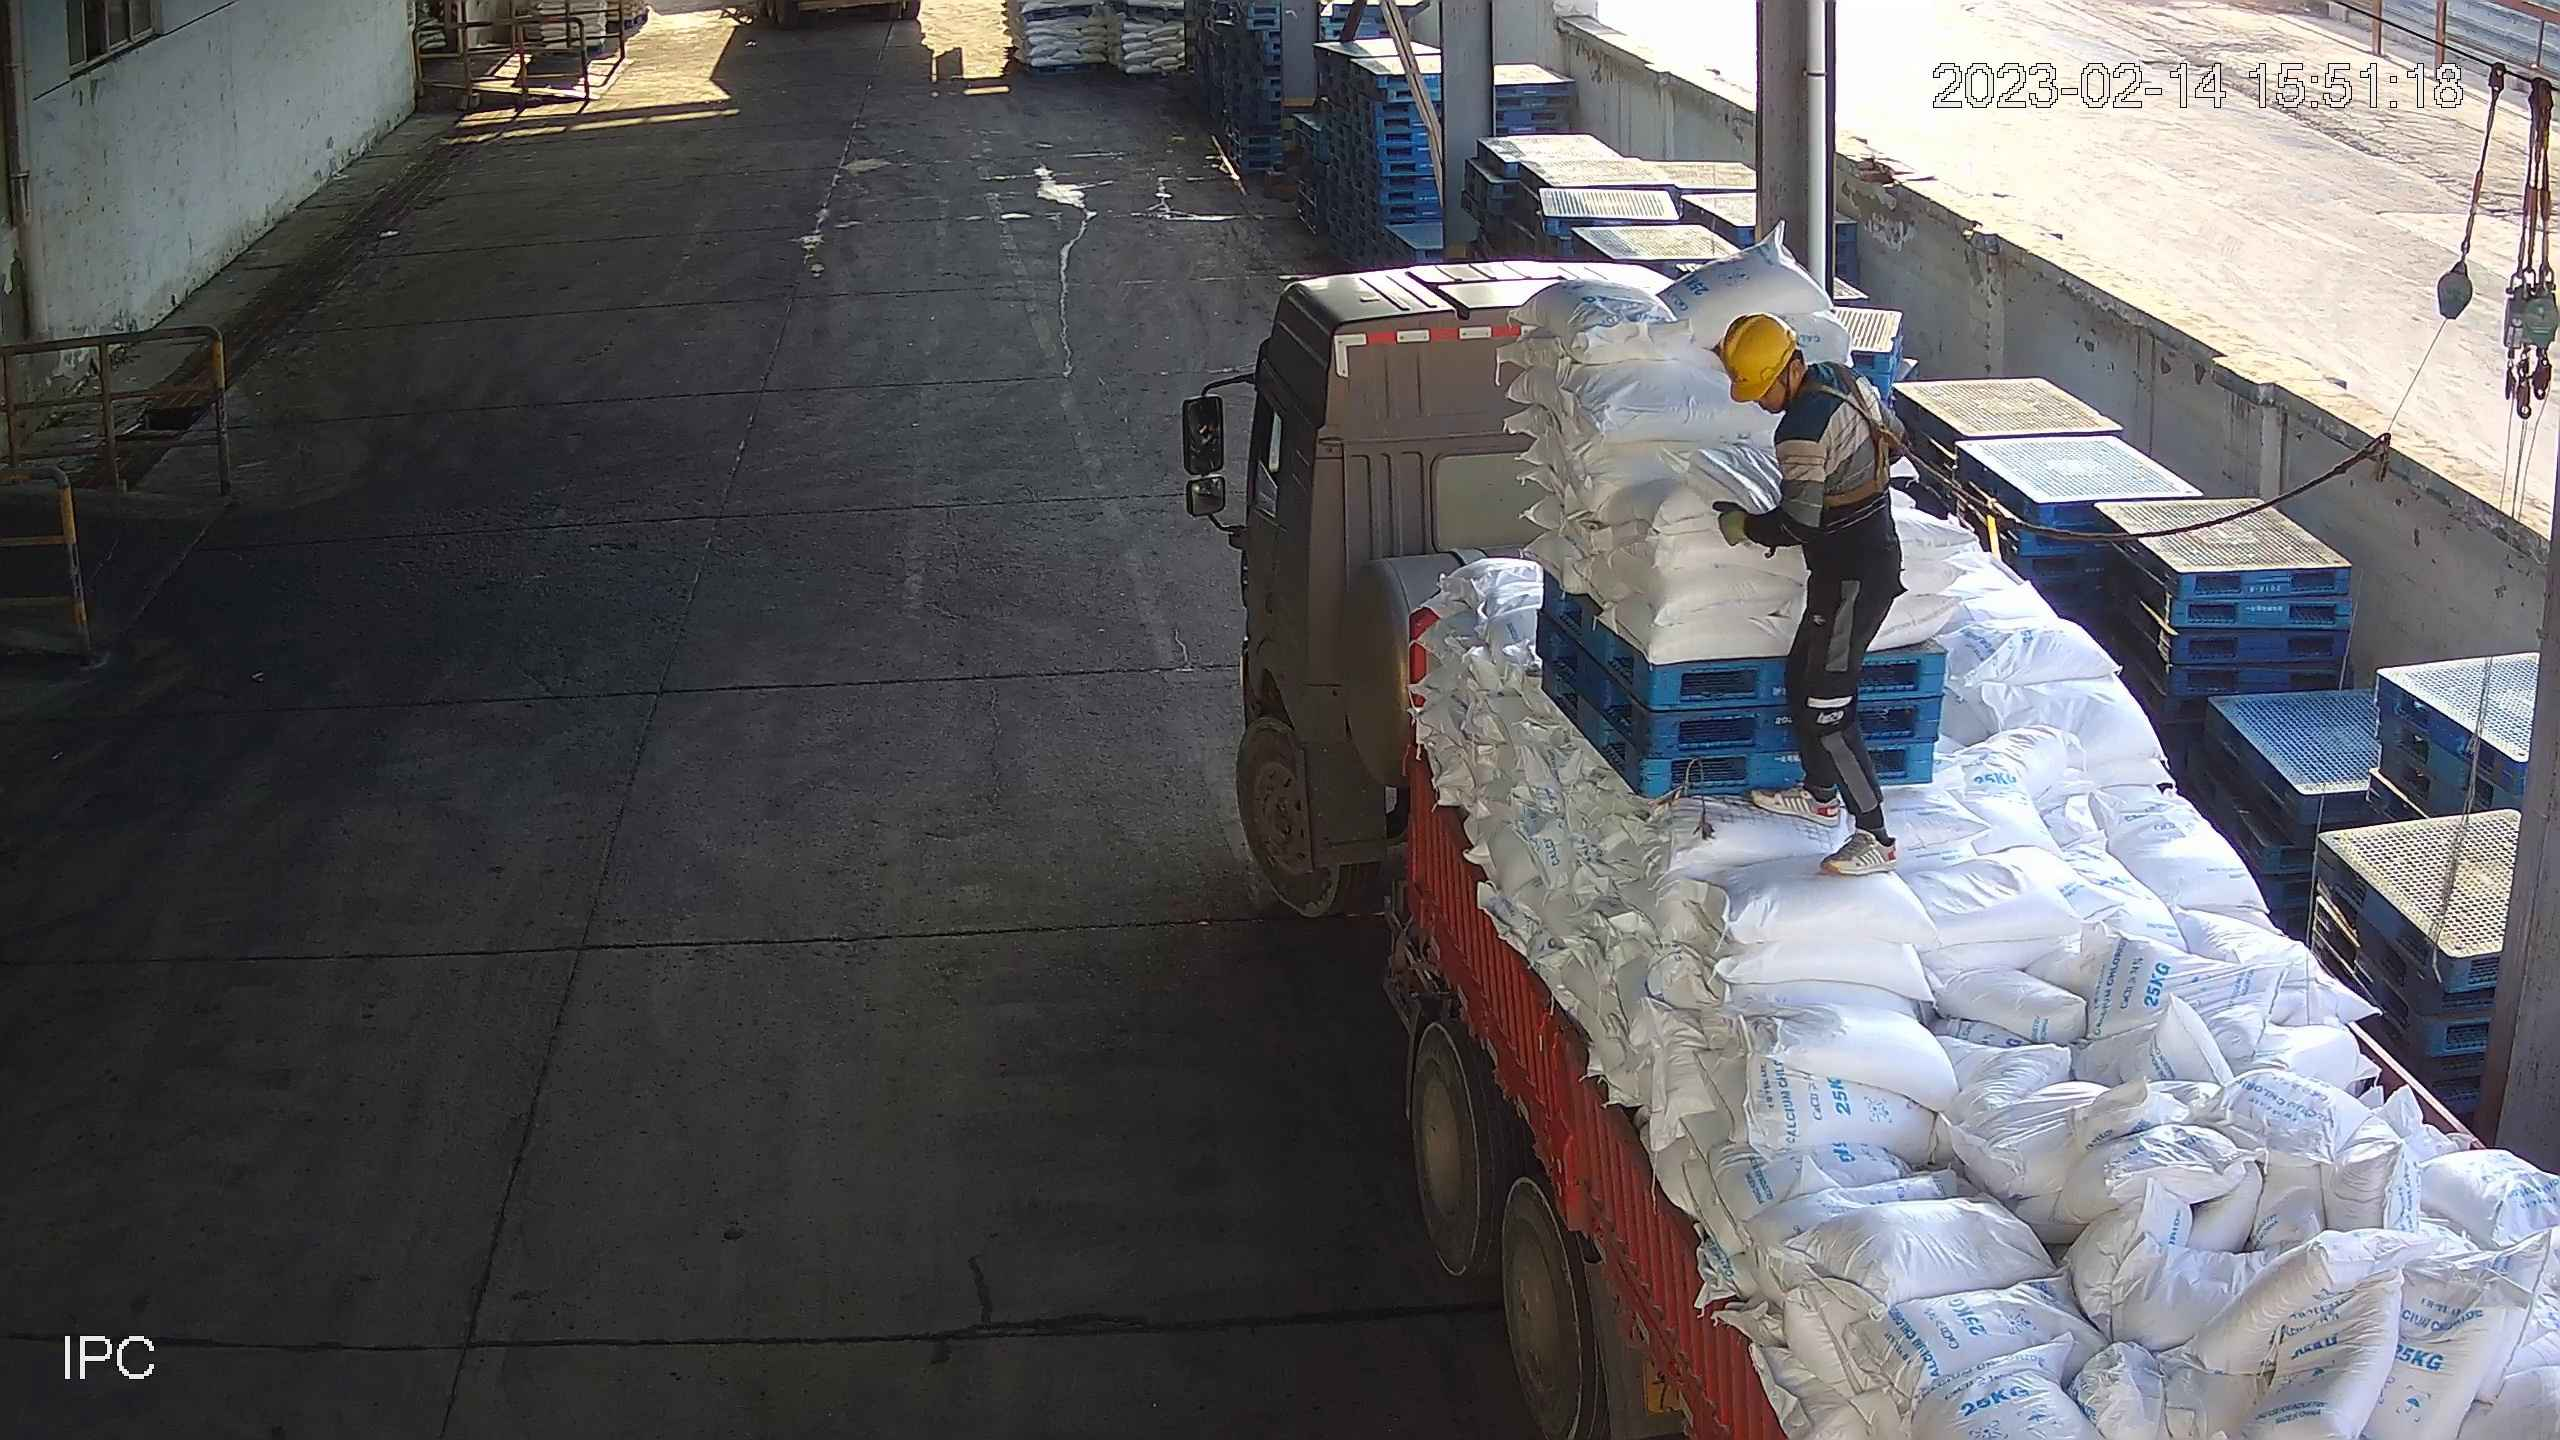belt: (1795, 362, 1922, 508)
head: (1722, 313, 1898, 459)
helmet: (1722, 313, 1799, 403)
people: (1714, 311, 1917, 876)
truck: (1233, 255, 2560, 1440)
